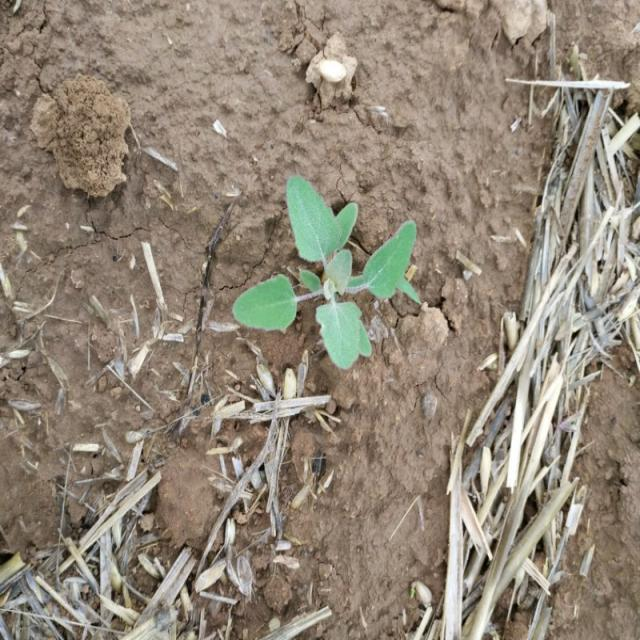goosefoots: (222, 184, 421, 374)
